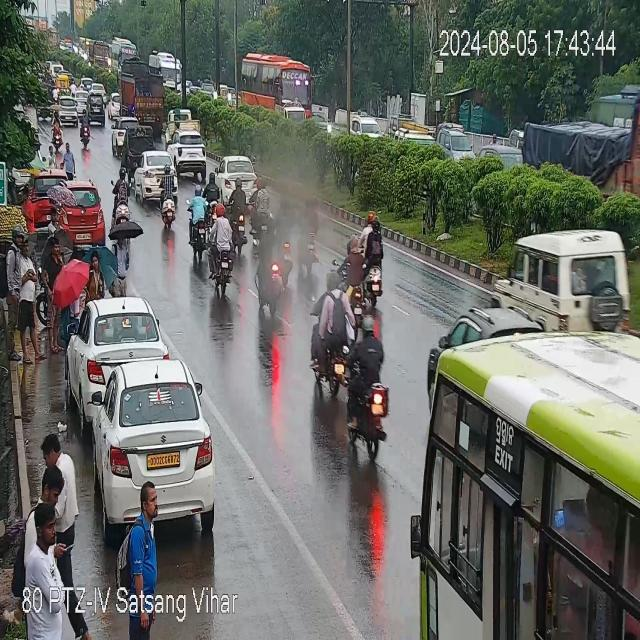2-wheelers: (251, 187, 313, 318), (344, 318, 392, 459), (312, 276, 356, 399), (344, 216, 390, 296), (206, 204, 239, 286), (189, 188, 215, 255), (109, 167, 133, 230), (153, 175, 180, 229), (231, 179, 249, 224), (80, 108, 101, 146), (78, 118, 96, 150)
auto: (232, 51, 316, 120), (126, 124, 158, 162)
bus: (420, 311, 638, 640)
car: (74, 355, 219, 532), (492, 230, 636, 343), (70, 298, 167, 394), (67, 180, 107, 247), (133, 154, 179, 198), (209, 155, 257, 195), (170, 132, 210, 175), (50, 92, 85, 121)
pedestrian: (16, 425, 78, 640), (118, 481, 165, 640), (15, 250, 44, 362), (110, 226, 136, 292), (42, 142, 79, 180), (89, 250, 106, 300), (22, 182, 38, 229)
truck: (506, 69, 639, 187), (115, 64, 163, 130)
